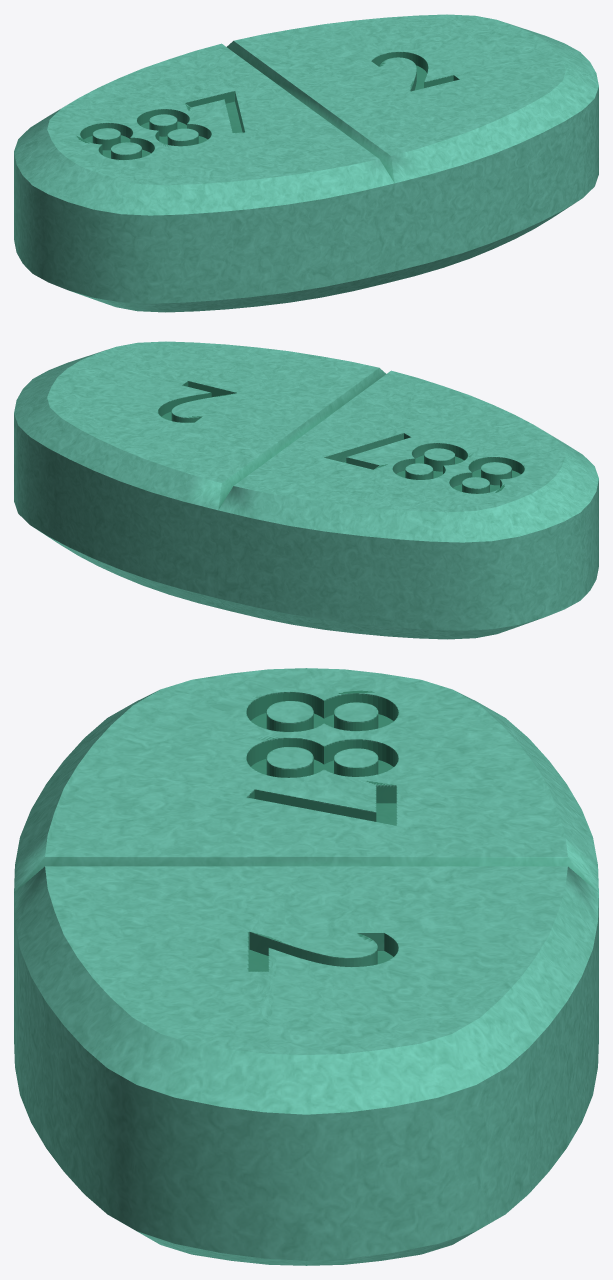
The model's file is estrogen.glb.
3 renders of one model, top to bottom at view 1: azimuth 30°, elevation 25°; view 2: azimuth 150°, elevation 25°; view 3: azimuth 270°, elevation 25°, orthographic. The views are drawn at different scales.
Parts seen in each view (by area): view 1: Estrogen.001; view 2: Estrogen.001; view 3: Estrogen.001.
Boxes of the visible parts, <box> form: Estrogen.001: <box>14,14,598,312</box>; Estrogen.001: <box>14,341,598,639</box>; Estrogen.001: <box>14,668,598,1265</box>.
Size of the model in its own units: 0.5376 by 0.1192 by 0.2998.
Materials: 1 (1 with a texture image).
